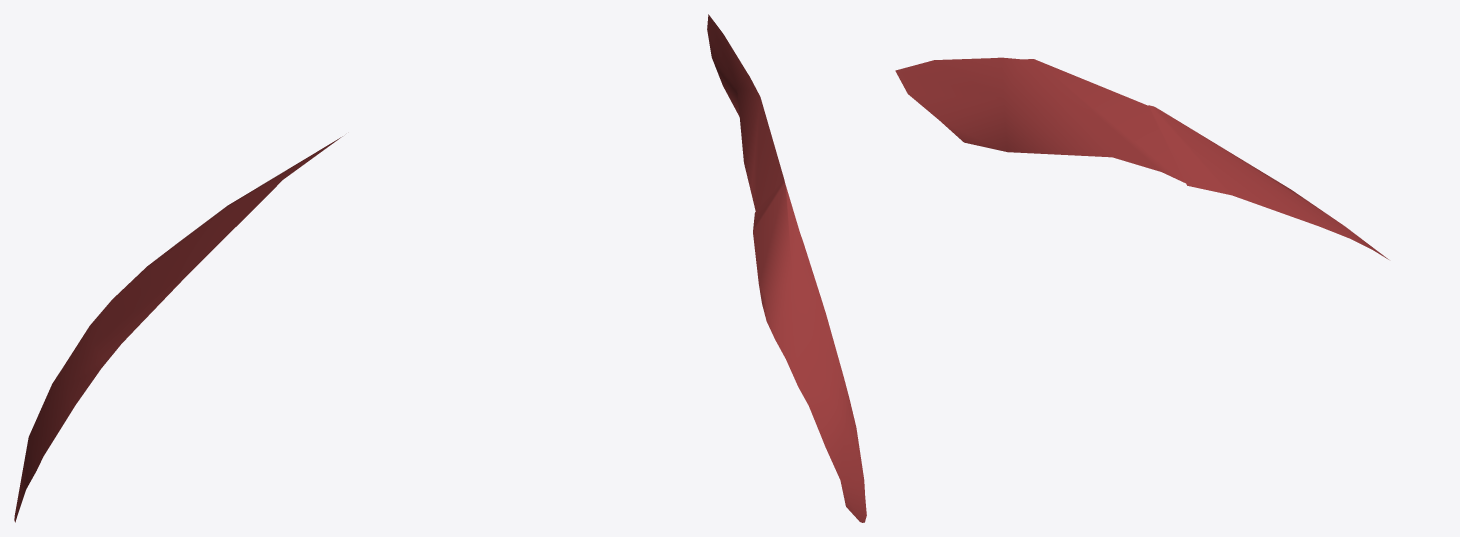
The model's file is latissimus-dorsi-muscle-ol.glb.
3 renders of one model, left to right at view 1: azimuth 30°, elevation 25°; view 2: azimuth 150°, elevation 25°; view 3: azimuth 270°, elevation 25°, orthographic. The views are drawn at different scales.
Parts seen in each view (by area): view 1: Latissimus dorsi muscle.ol; view 2: Latissimus dorsi muscle.ol; view 3: Latissimus dorsi muscle.ol.
Boxes of the visible parts, x1,y1,x2,y2 form: Latissimus dorsi muscle.ol: [14, 136, 342, 522]; Latissimus dorsi muscle.ol: [707, 14, 866, 522]; Latissimus dorsi muscle.ol: [895, 57, 1388, 259].
Bounding box in the file's own units: 0.0484 × 0.0556 × 0.0403.
